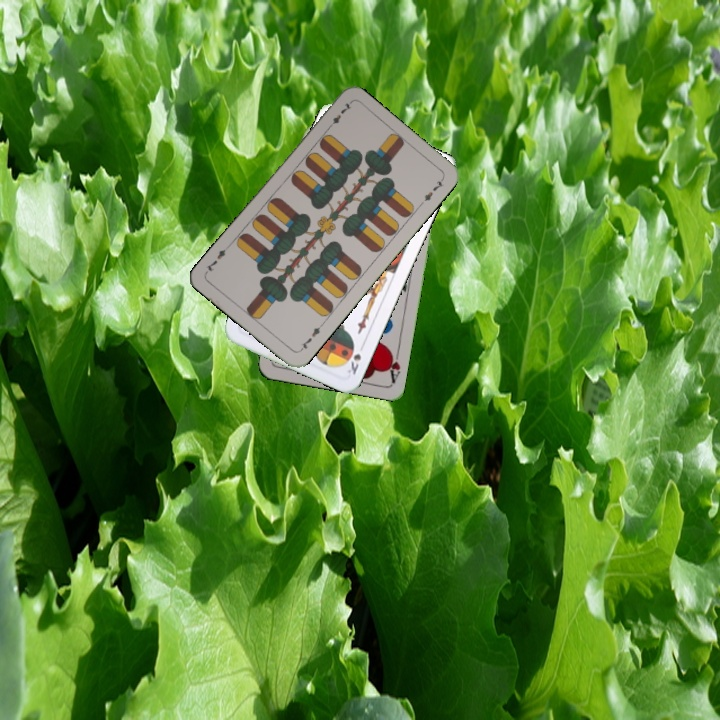E7: (323, 99, 354, 132), (295, 320, 325, 354)
HA: (383, 344, 403, 385)
SK: (343, 350, 364, 377)
